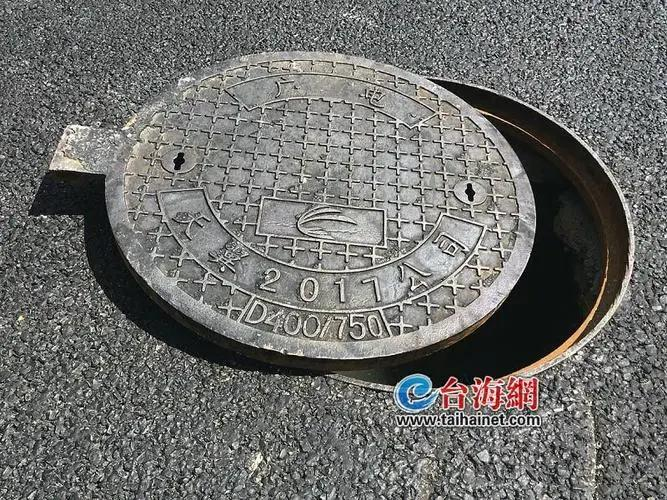wellcover: (41, 43, 651, 423)
